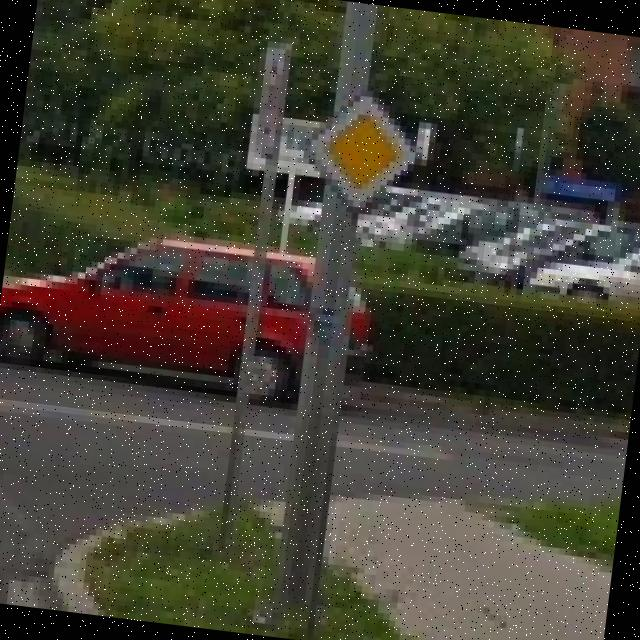Droga z pierwszenstwem: (294, 80, 426, 222)
